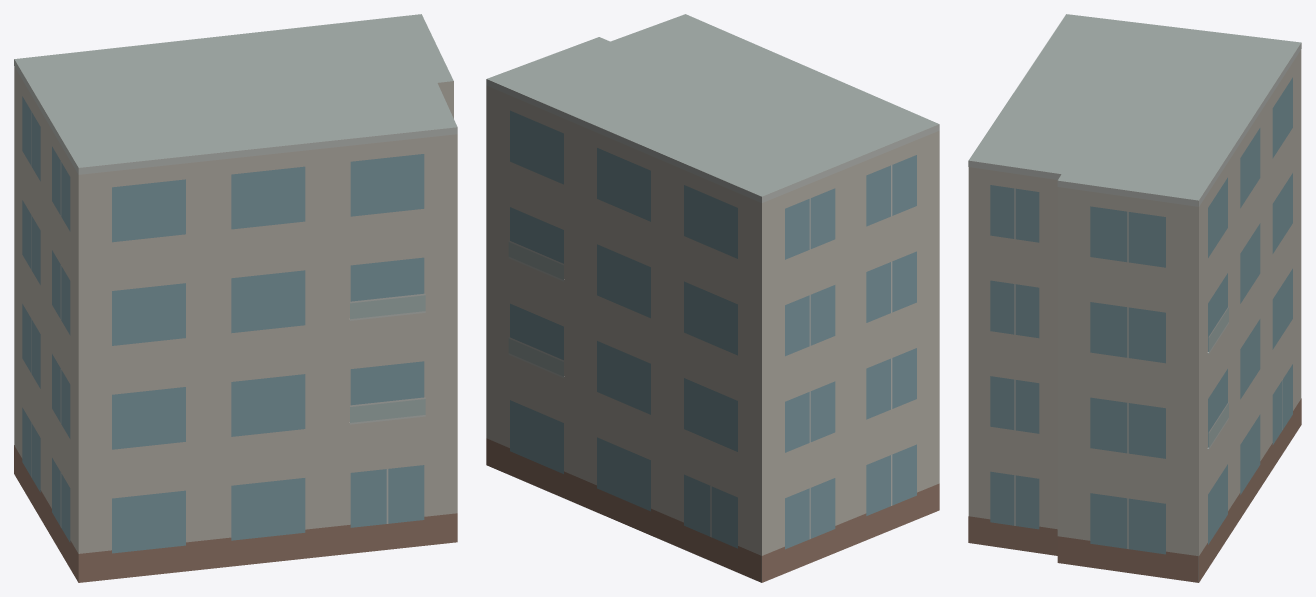
The model's file is survey-upis-32869169.glb.
3 renders of one model, left to right at view 1: azimuth 30°, elevation 25°; view 2: azimuth 150°, elevation 25°; view 3: azimuth 270°, elevation 25°, orthographic. The views are drawn at different scales.
Parts seen in each view (by area): view 1: survey-upis-32869169.tmp; view 2: survey-upis-32869169.tmp; view 3: survey-upis-32869169.tmp.
Boxes of the visible parts, left/top/right/bottom form: survey-upis-32869169.tmp: left=14, top=14, right=457, bottom=582; survey-upis-32869169.tmp: left=486, top=14, right=939, bottom=582; survey-upis-32869169.tmp: left=968, top=14, right=1301, bottom=582.
Size of the model in its own units: 15.29 by 14.6 by 11.54.
